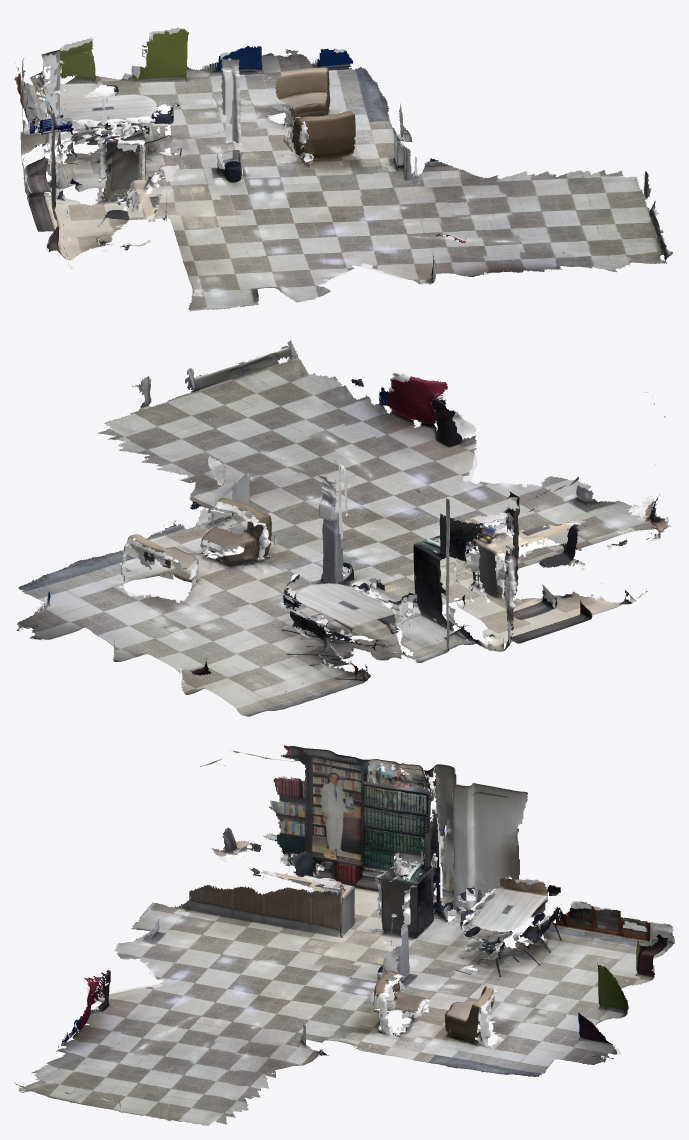
The picture shows the model from 3 angles, top to bottom: view 1: azimuth 30°, elevation 25°; view 2: azimuth 150°, elevation 25°; view 3: azimuth 270°, elevation 25°; orthographic projection. The views are drawn at different scales.
Visible parts, largest first — view 1: texture_5, texture_0, texture_2, texture_3, texture_4, object 1, texture_1; view 2: texture_5, texture_2, texture_3, texture_4, texture_0, object 1, texture_1; view 3: texture_5, texture_2, texture_1, texture_0, texture_4, texture_3, object 1.
Boxes of the visible parts, x1=… form: texture_5: x1=29, y1=50, x2=672, y2=284; texture_0: x1=105, y1=106, x2=453, y2=311; texture_2: x1=14, y1=31, x2=394, y2=208; texture_3: x1=43, y1=59, x2=507, y2=249; texture_4: x1=25, y1=29, x2=499, y2=191; object 1: x1=17, y1=27, x2=670, y2=311; texture_1: x1=20, y1=49, x2=198, y2=260; texture_5: x1=98, y1=340, x2=476, y2=658; texture_2: x1=16, y1=515, x2=453, y2=716; texture_3: x1=162, y1=460, x2=591, y2=662; texture_4: x1=18, y1=473, x2=509, y2=663; texture_0: x1=188, y1=463, x2=670, y2=646; object 1: x1=19, y1=348, x2=670, y2=715; texture_1: x1=413, y1=416, x2=667, y2=651; texture_5: x1=14, y1=783, x2=527, y2=1125; texture_2: x1=355, y1=878, x2=674, y2=1065; texture_1: x1=212, y1=745, x2=527, y2=946; texture_0: x1=114, y1=876, x2=537, y2=1045; texture_4: x1=255, y1=884, x2=643, y2=1076; texture_3: x1=235, y1=859, x2=506, y2=1072; object 1: x1=19, y1=750, x2=674, y2=1121.
Bounding box in the file's own units: 10.19 × 2.67 × 11.43.
Materials: 7 (6 with a texture image).
